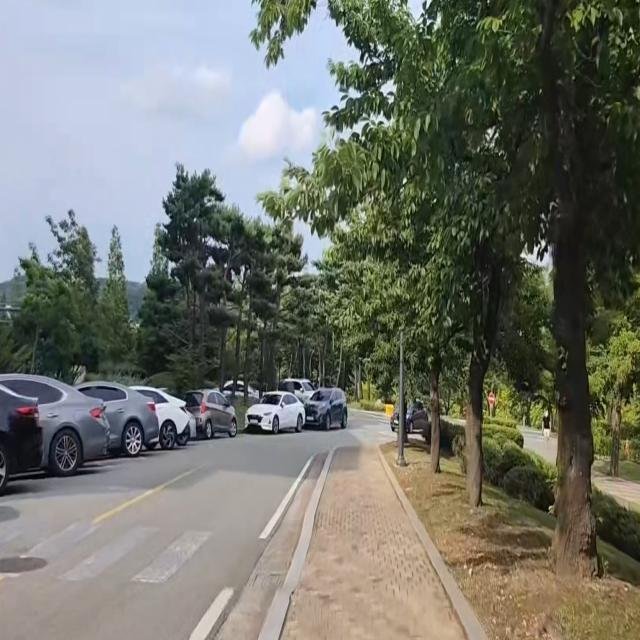obstacle: (0, 367, 199, 506), (242, 373, 350, 442), (179, 384, 241, 442)
road: (0, 436, 328, 640)
sidewalk: (261, 442, 496, 640)
